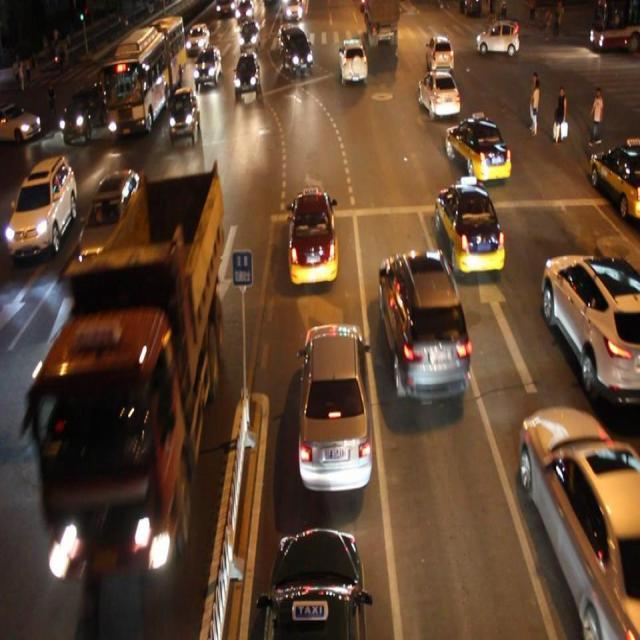BigCar: (44, 194, 205, 512), (119, 45, 170, 128)
car: (505, 411, 640, 608), (519, 218, 640, 411), (385, 248, 462, 403), (265, 176, 361, 290), (423, 171, 510, 276), (294, 316, 346, 462), (281, 532, 348, 640), (455, 106, 509, 194)
